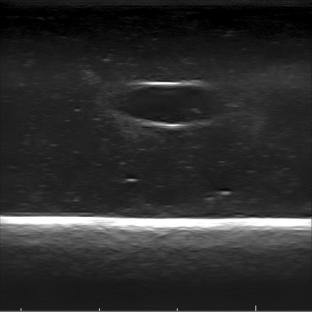vessel: (124, 79, 215, 132)
